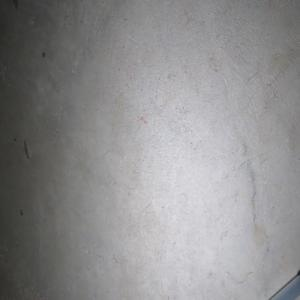Pen: (269, 270, 300, 300)
